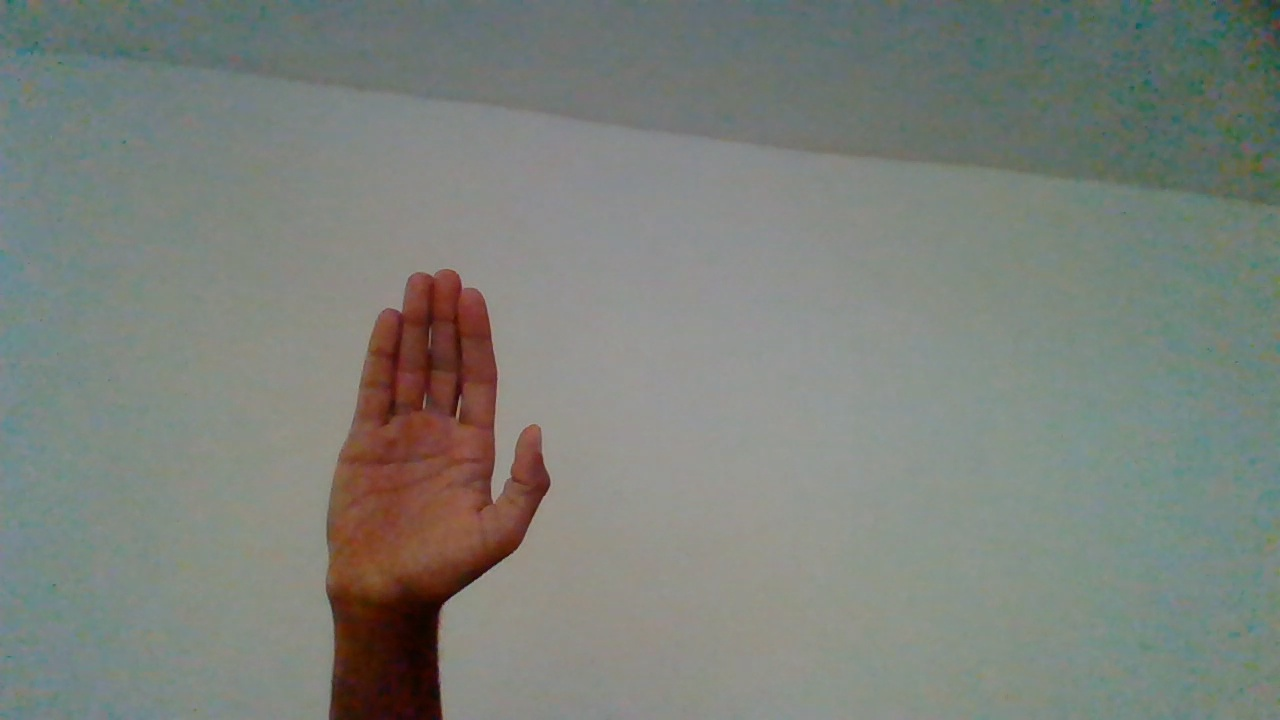ha: (327, 271, 559, 711)
